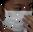with_mask: (2, 1, 33, 32)
